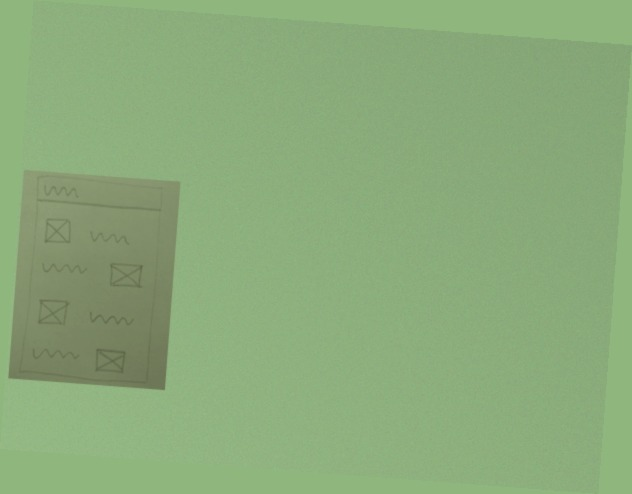image: (107, 260, 145, 290), (34, 298, 73, 327), (91, 347, 129, 376), (42, 216, 74, 246)
text: (30, 346, 81, 364), (85, 311, 136, 329), (39, 258, 89, 276), (88, 228, 132, 247), (42, 183, 80, 200)
